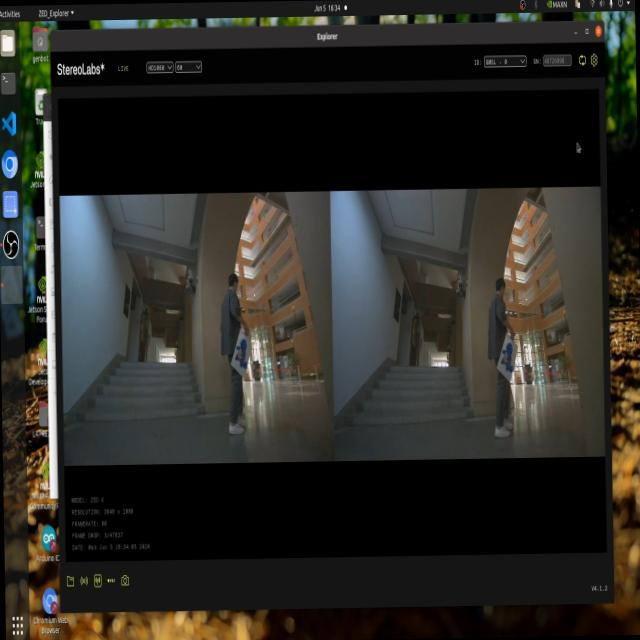blue: (230, 332, 256, 371), (498, 337, 516, 373)
